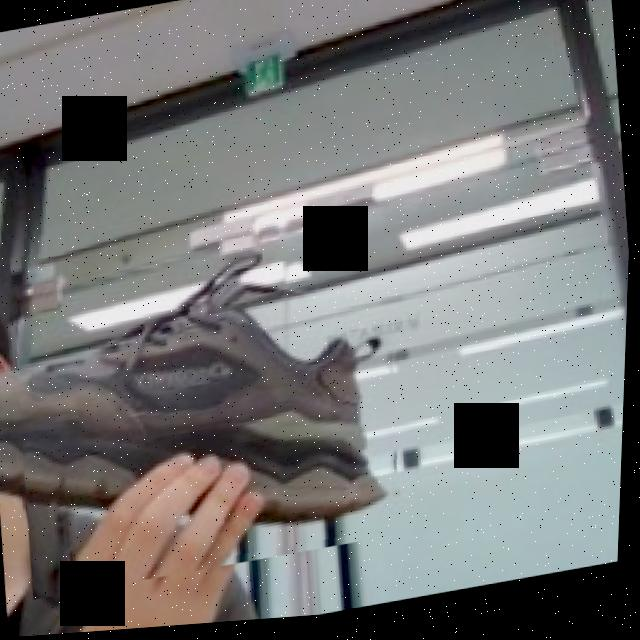shoe: (0, 177, 426, 602)
